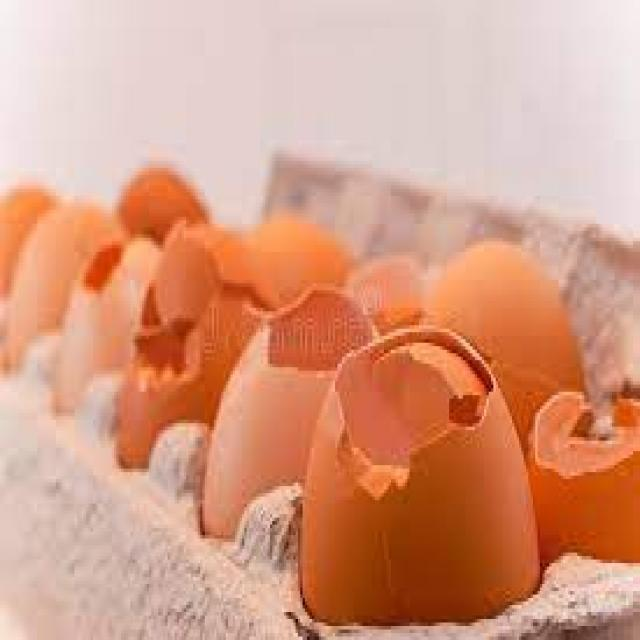biodegradable: (299, 314, 542, 622), (192, 282, 388, 528), (110, 266, 256, 480), (524, 368, 640, 562)
